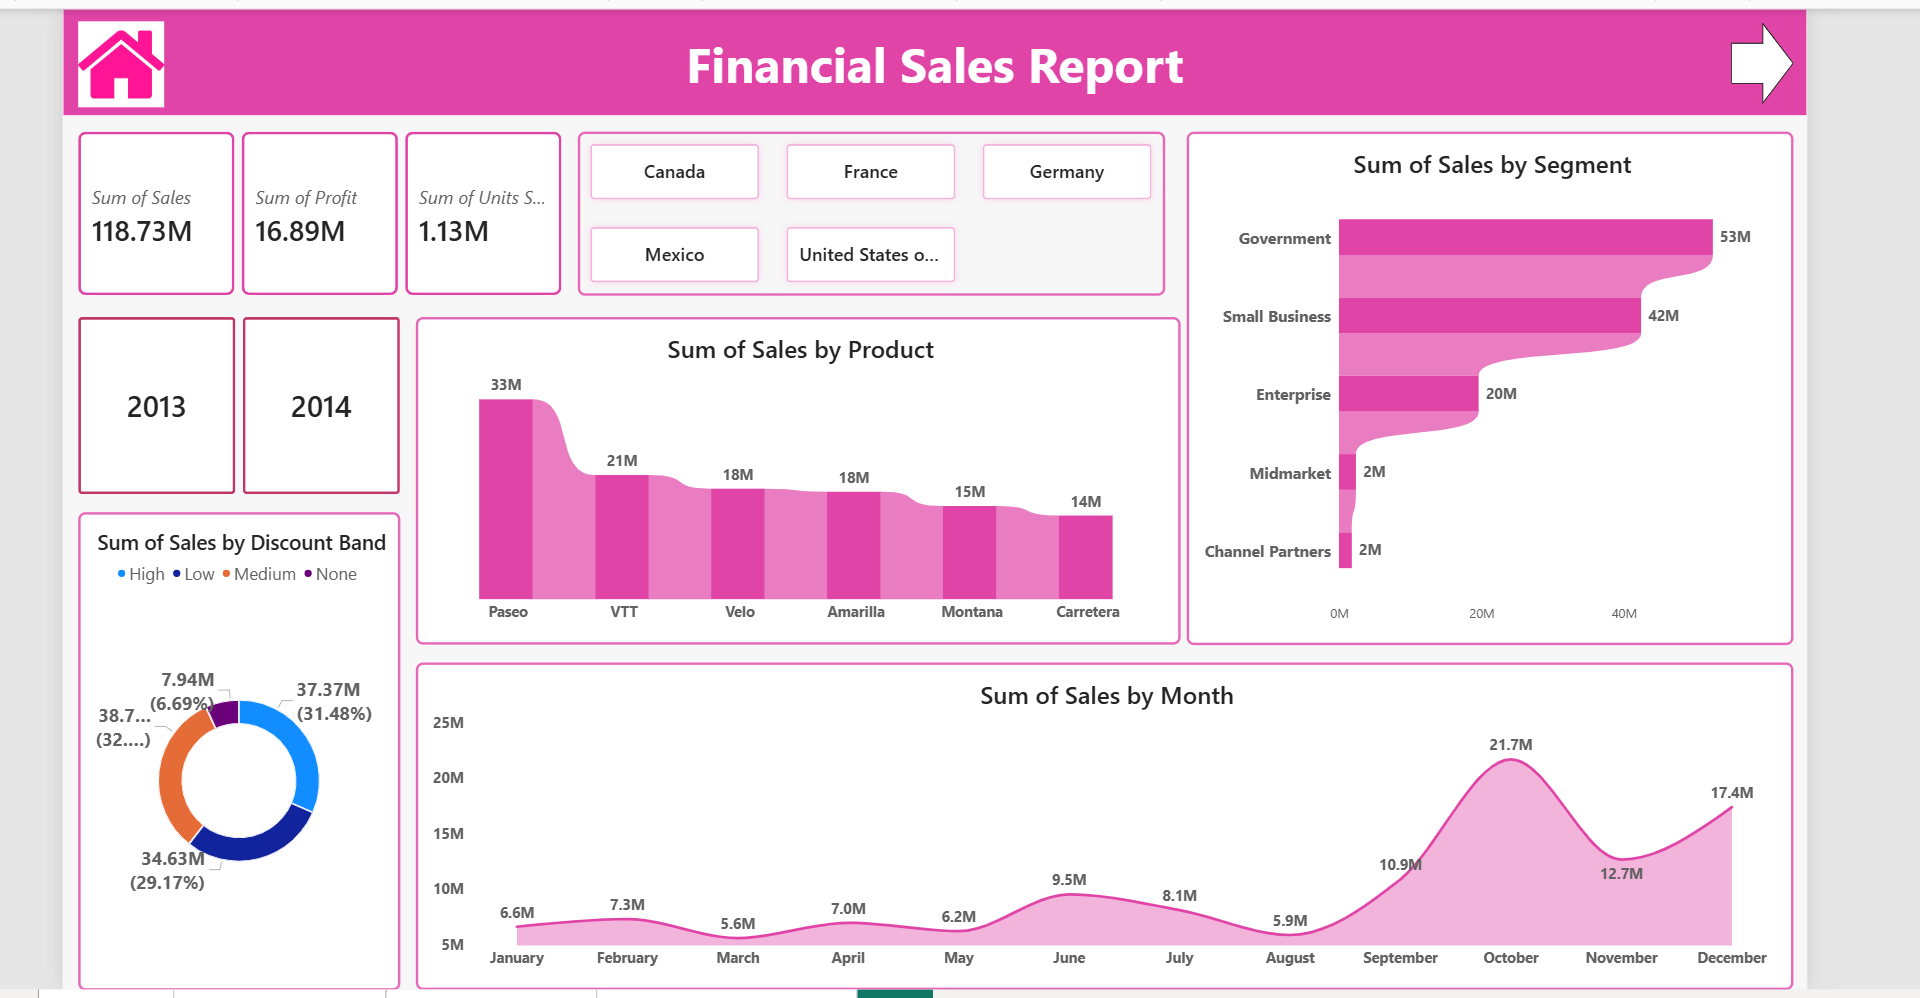

What the dashboard file says about the page in this screenshot:
{"tool":"powerbi","page":{"name":"Sales Report","canvas":[1920,1080],"ordinal":1},"visuals":[{"type":"shape","box":[0,0,1920.8,118.2],"z":0},{"type":"cardVisual","fields":{"Data":["Sum(financials.Sales)","Sum(financials.Profit)","Sum(financials.Units Sold)"]},"box":[17.2,135.4,532.8,180.5],"z":1000},{"type":"advancedSlicerVisual","fields":{"Values":["financials.Year"]},"box":[17.2,339.5,354.5,195.5],"z":2000},{"type":"barChart","fields":{"Category":["financials.Segment"],"Y":["Sum(financials.Sales)"]},"box":[1237.6,135.4,668.2,565.1],"z":3000},{"type":"columnChart","fields":{"Category":["financials.Product"],"Y":["Sum(financials.Sales)"]},"box":[388.9,339.5,842.2,361],"z":4000},{"type":"donutChart","fields":{"Series":["financials.Discount Band"],"Y":["Sum(financials.Sales)"]},"box":[17.2,554.3,354.5,526.4],"z":5000},{"type":"advancedSlicerVisual","fields":{"Values":["financials.Country"]},"box":[567.2,135.4,646.7,180.5],"z":6000},{"type":"areaChart","fields":{"Category":["financials.Date.Variation.Date Hierarchy.Month"],"Y":["Sum(financials.Sales)"]},"box":[388.9,719.8,1516.9,361],"z":7000},{"type":"image","box":[17.2,8.6,94.5,105.3],"z":8000},{"type":"shape","box":[1837,15,68.8,90.2],"z":9000}]}

Visuals, with their boxes on the page's 1920x1080 design canvas (x1, y1, x2, y2). These are canvas units, not pixel positions in the 1920x998 screenshot, which may show the page scaled, cropped or inside an application window:
shape: pyautogui.locateOnScreen(0, 0, 1921, 118)
cardVisual - Sum(financials.Sales) x Sum(financials.Profit): pyautogui.locateOnScreen(17, 135, 550, 316)
advancedSlicerVisual - financials.Year: pyautogui.locateOnScreen(17, 340, 372, 535)
barChart - financials.Segment x Sum(financials.Sales): pyautogui.locateOnScreen(1238, 135, 1906, 700)
columnChart - financials.Product x Sum(financials.Sales): pyautogui.locateOnScreen(389, 340, 1231, 700)
donutChart - financials.Discount Band x Sum(financials.Sales): pyautogui.locateOnScreen(17, 554, 372, 1081)
advancedSlicerVisual - financials.Country: pyautogui.locateOnScreen(567, 135, 1214, 316)
areaChart - financials.Date.Variation.Date Hierarchy.Month x Sum(financials.Sales): pyautogui.locateOnScreen(389, 720, 1906, 1081)
image: pyautogui.locateOnScreen(17, 9, 112, 114)
shape: pyautogui.locateOnScreen(1837, 15, 1906, 105)
